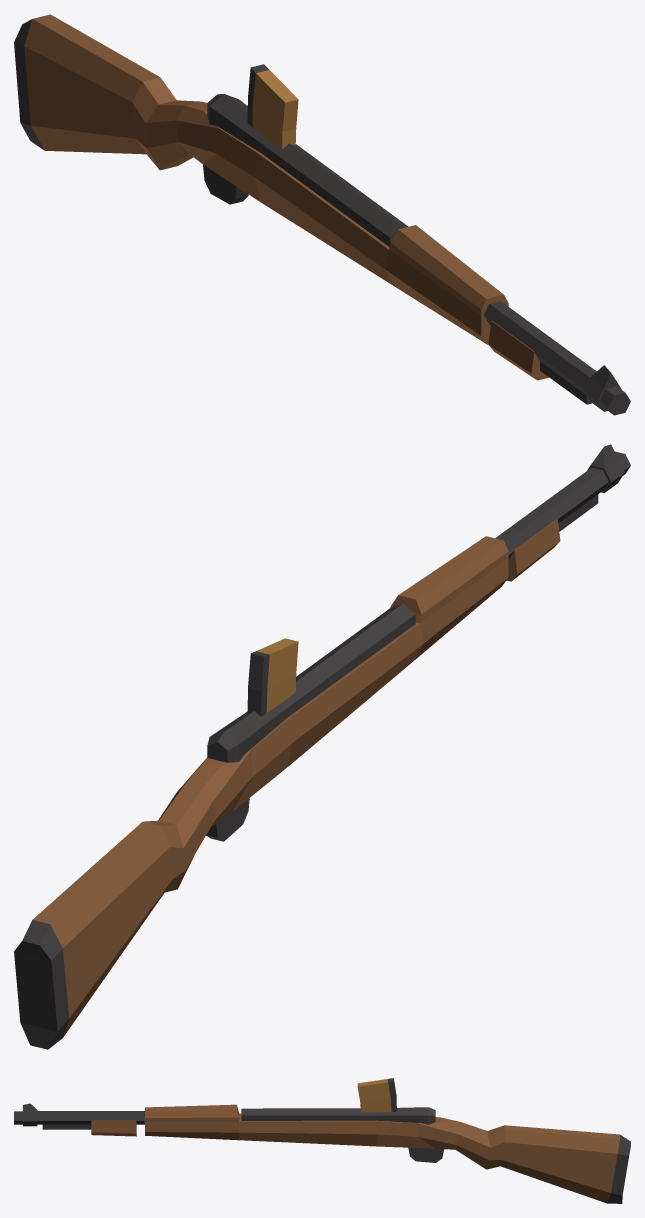
Rendered from weapons-rifle-old.glb.
3 renders of one model, top to bottom at view 1: azimuth 30°, elevation 25°; view 2: azimuth 150°, elevation 25°; view 3: azimuth 270°, elevation 25°, orthographic. The views are drawn at different scales.
Visible parts, largest first — view 1: SM_Rifle_Old; view 2: SM_Rifle_Old; view 3: SM_Rifle_Old.
Boxes of the visible parts, x1,y1,x2,y2 form: SM_Rifle_Old: (14,14,630,415); SM_Rifle_Old: (14,444,630,1049); SM_Rifle_Old: (14,1078,630,1203).
Size of the model in its own units: 0.0425 by 0.2461 by 1.13.
